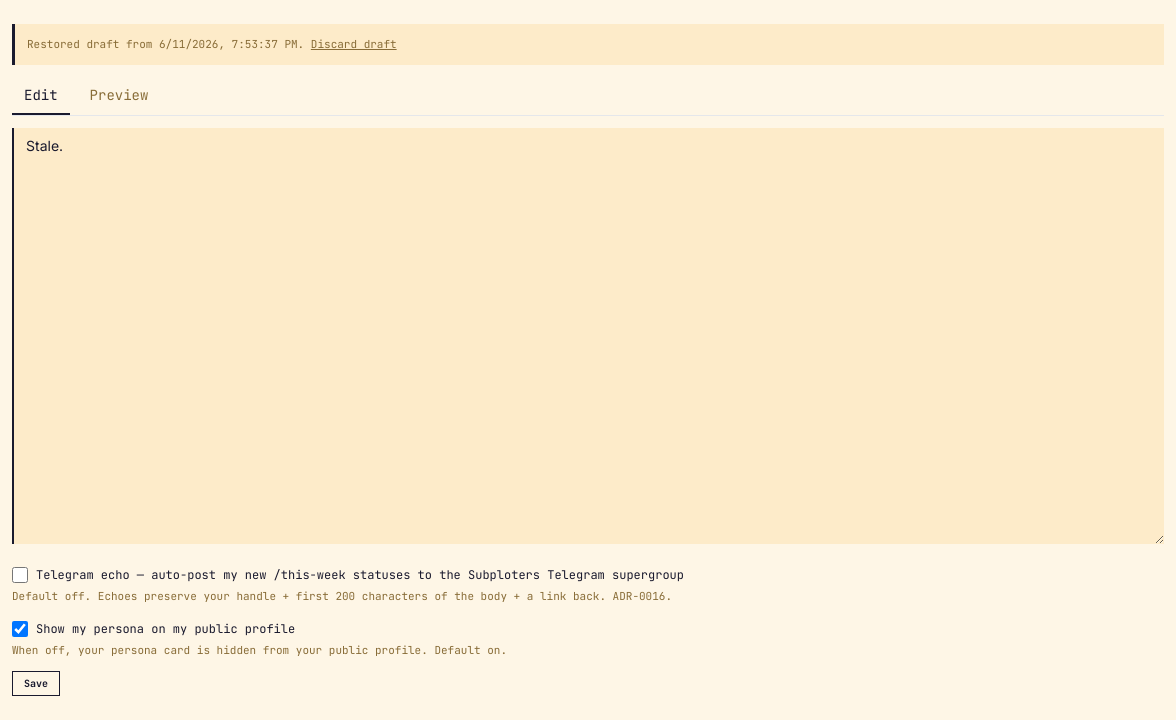
Scenario: ProfileEditor › H23: draft data stays local › Discard draft button clears the local draft + resets body to initialBody
Expected: the text "Restored draft from 6/11/2026, 7:53:37 PM. Discard draft" is shown, [12,24,1164,64]
Click the button "Discard draft" at (354, 44), box [311,36,397,52]
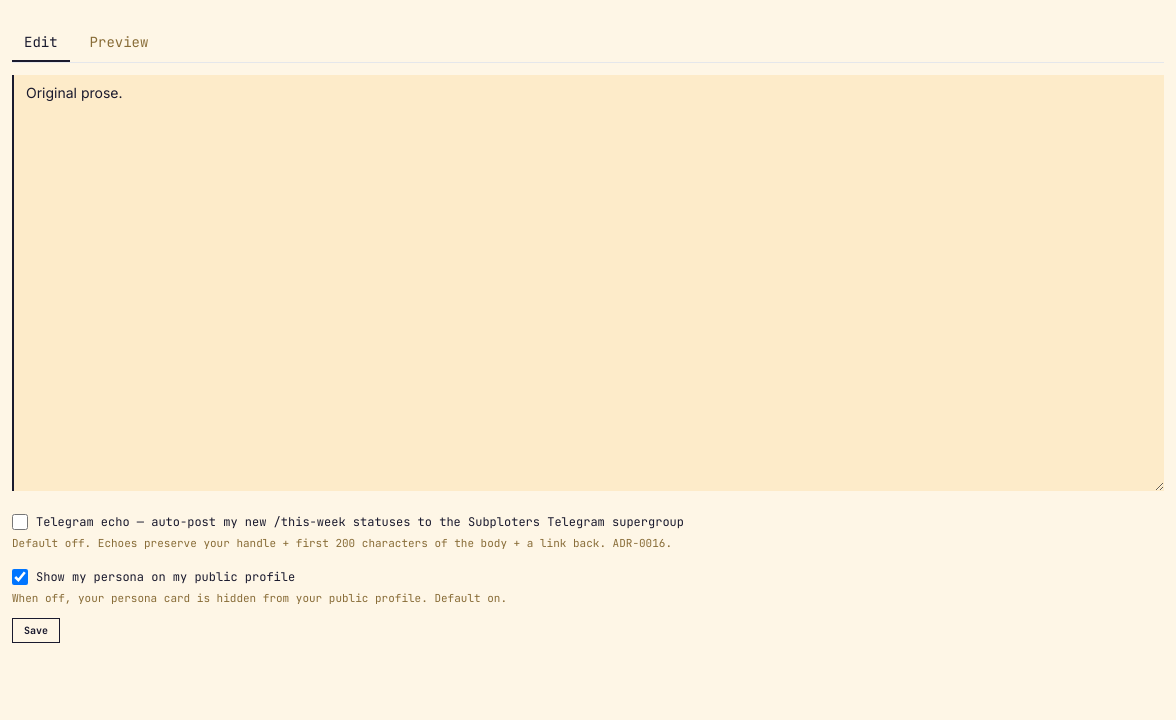
Expected: the text box holds "Original prose.", [12,75,1164,491]
